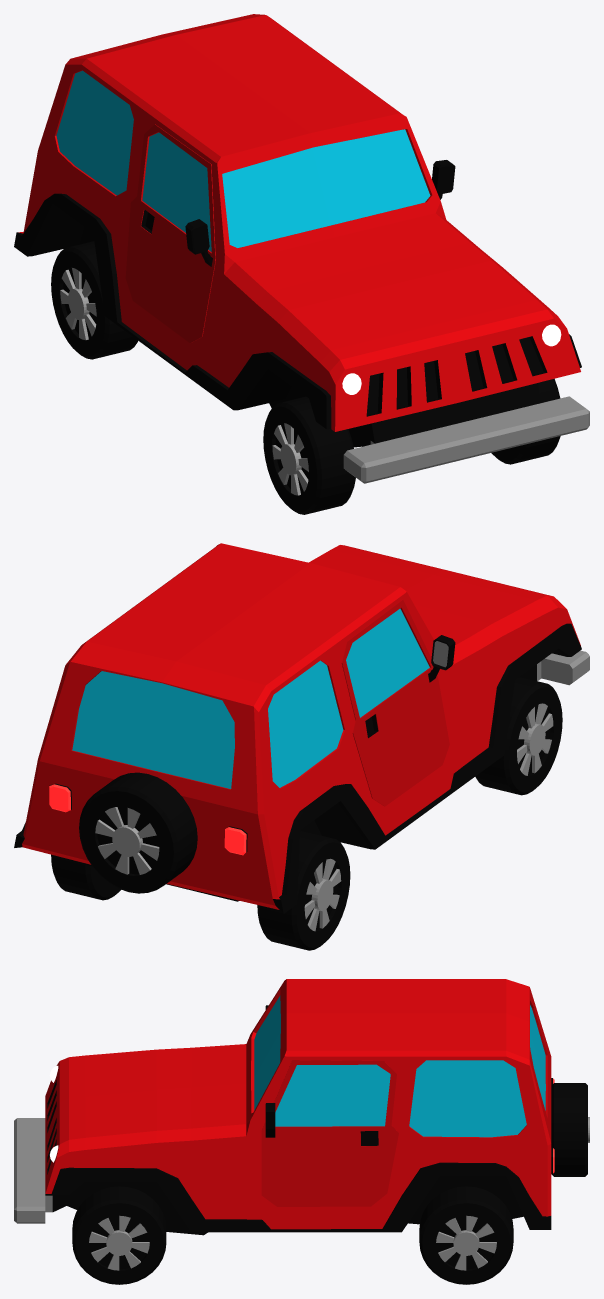
The model's file is jeep.gltf.
3 renders of one model, top to bottom at view 1: azimuth 30°, elevation 25°; view 2: azimuth 150°, elevation 25°; view 3: azimuth 270°, elevation 25°, orthographic. The views are drawn at different scales.
Visible parts, largest first — view 1: Cube; view 2: Cube; view 3: Cube.
Part boxes in pixels (x1,y1,x2,y2): Cube: (14,14,589,514); Cube: (14,543,589,950); Cube: (14,979,589,1284).
Size of the model in its own units: 1.63 by 1.57 by 3.67.
